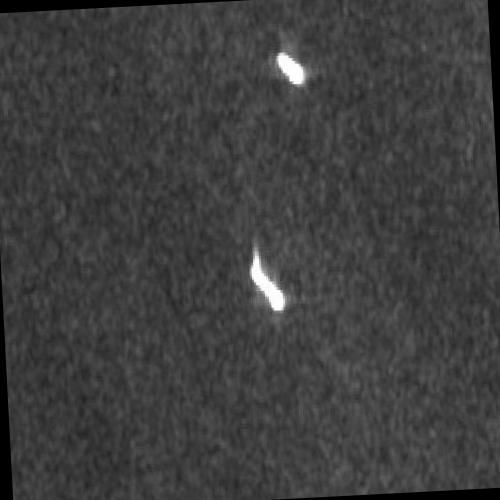ship: (250, 254, 285, 311), (276, 52, 306, 86)
